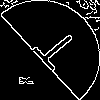T: (25, 25, 82, 78)
